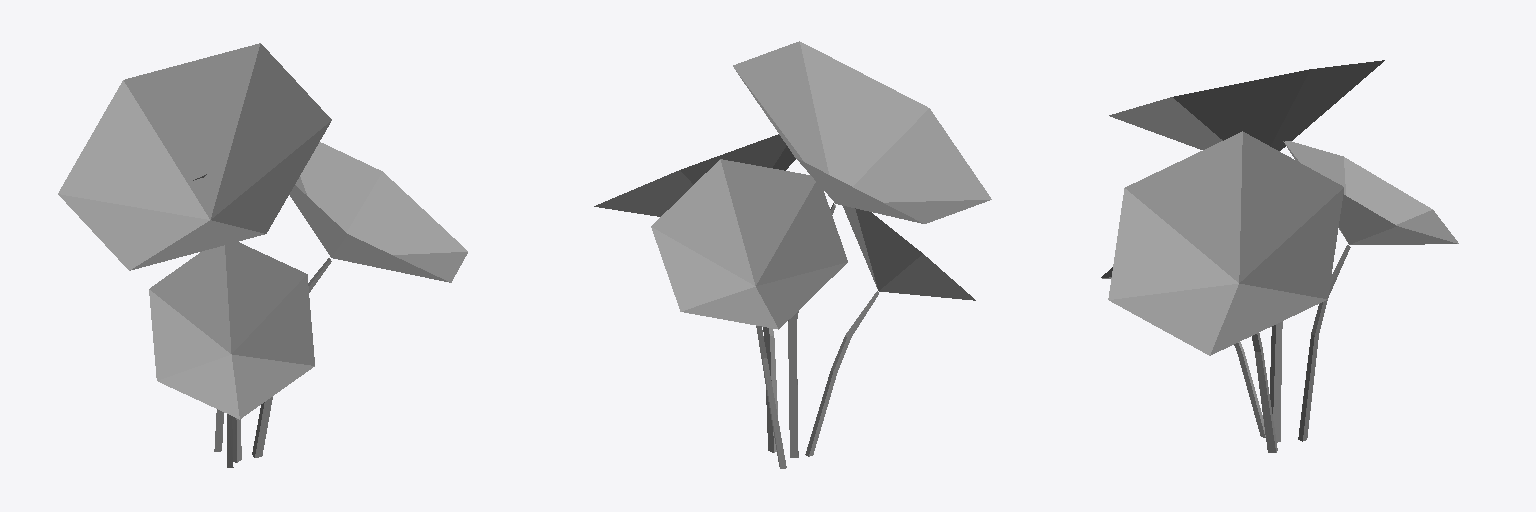
Rendered from Flower_3_Clump.obj.
3 views of the same model, side by side, from view 1: azimuth 30°, elevation 25°; view 2: azimuth 150°, elevation 25°; view 3: azimuth 270°, elevation 25° (orthographic).
Visible parts, largest first — view 1: Flower_3_Clump_Plane.068; view 2: Flower_3_Clump_Plane.068; view 3: Flower_3_Clump_Plane.068.
Boxes of the visible parts, x1=… form: Flower_3_Clump_Plane.068: x1=58, y1=43, x2=467, y2=467; Flower_3_Clump_Plane.068: x1=594, y1=41, x2=991, y2=468; Flower_3_Clump_Plane.068: x1=1101, y1=60, x2=1458, y2=452.
Bounding box in the file's own units: 0.426 × 0.4508 × 0.3735.